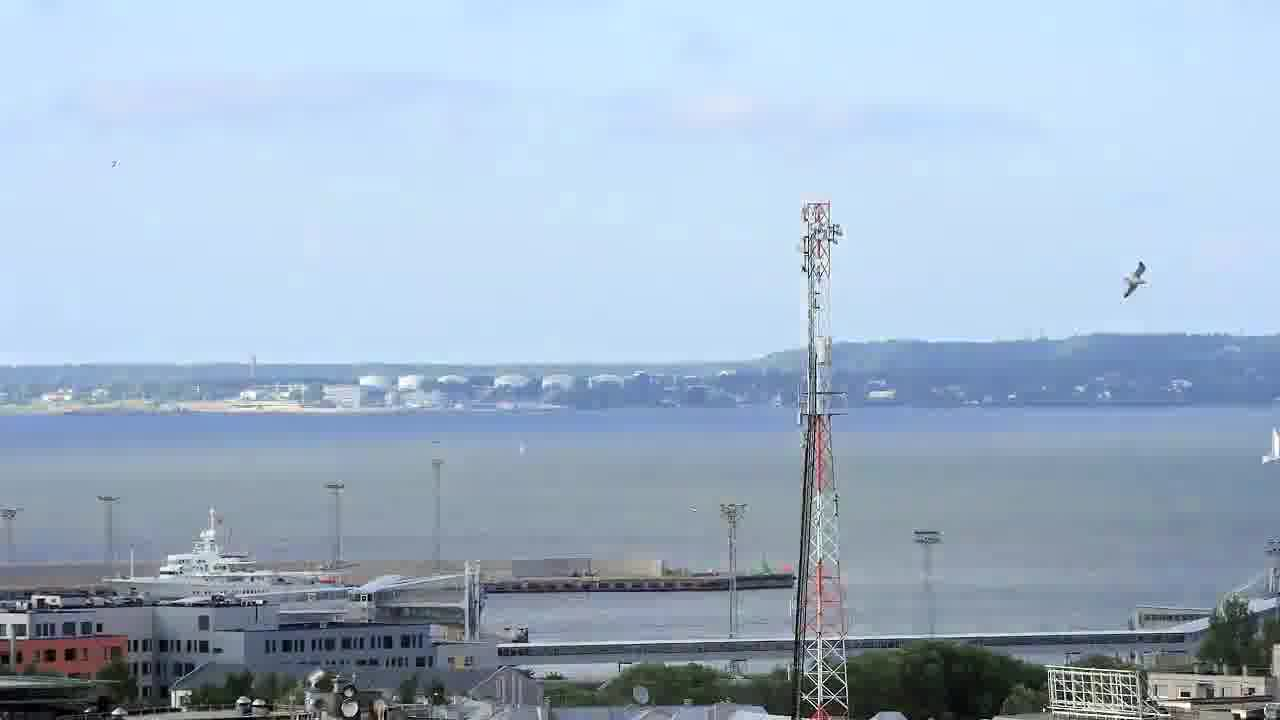type-2: (1249, 414, 1280, 487)
type-3: (84, 515, 355, 603)
